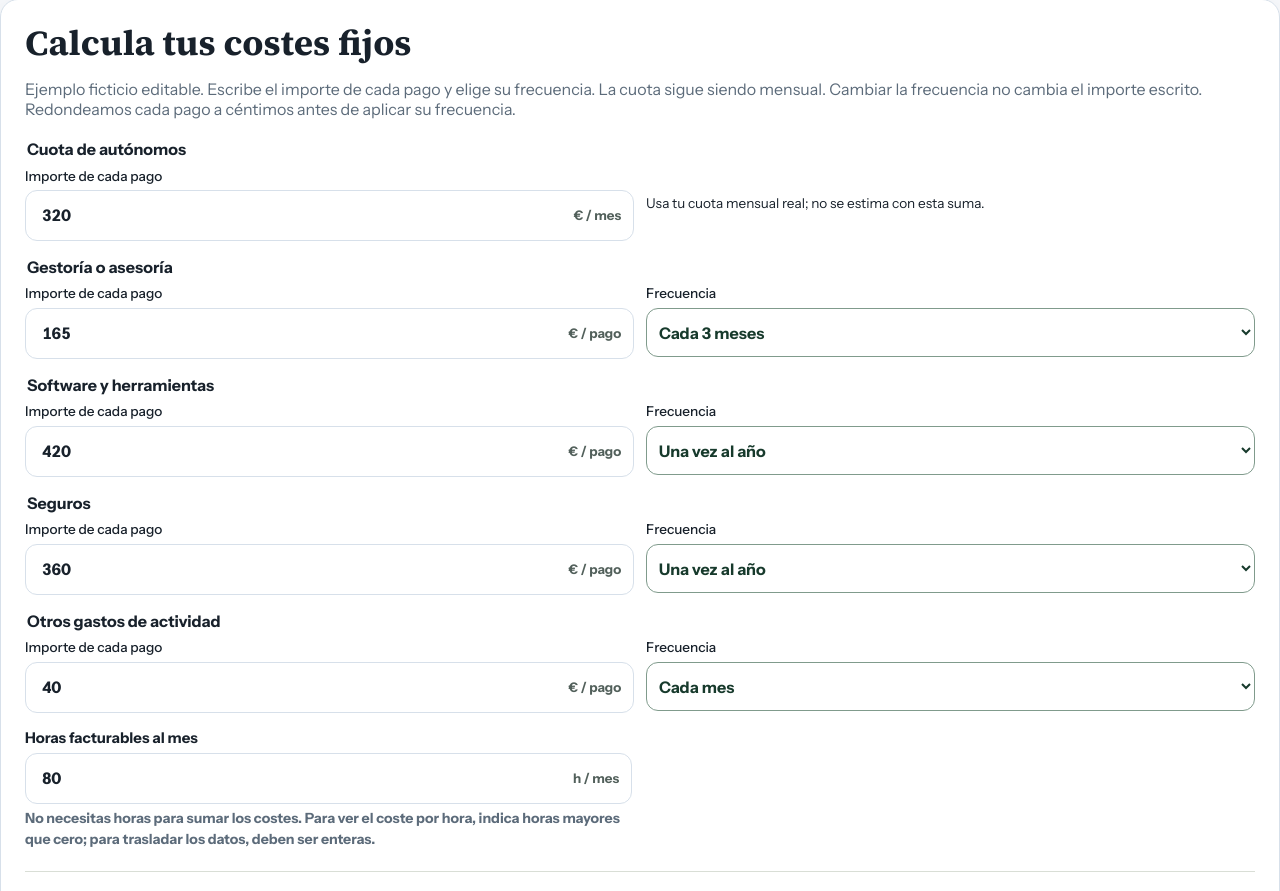
Test case: MonthlyCostCalculator › shows a cost-only breakdown and updates it when an expense changes
Step 1. Select "Cada mes" in the dropdown named "frecuencia de software" → (950,451), box left=646, top=426, right=1255, bottom=475
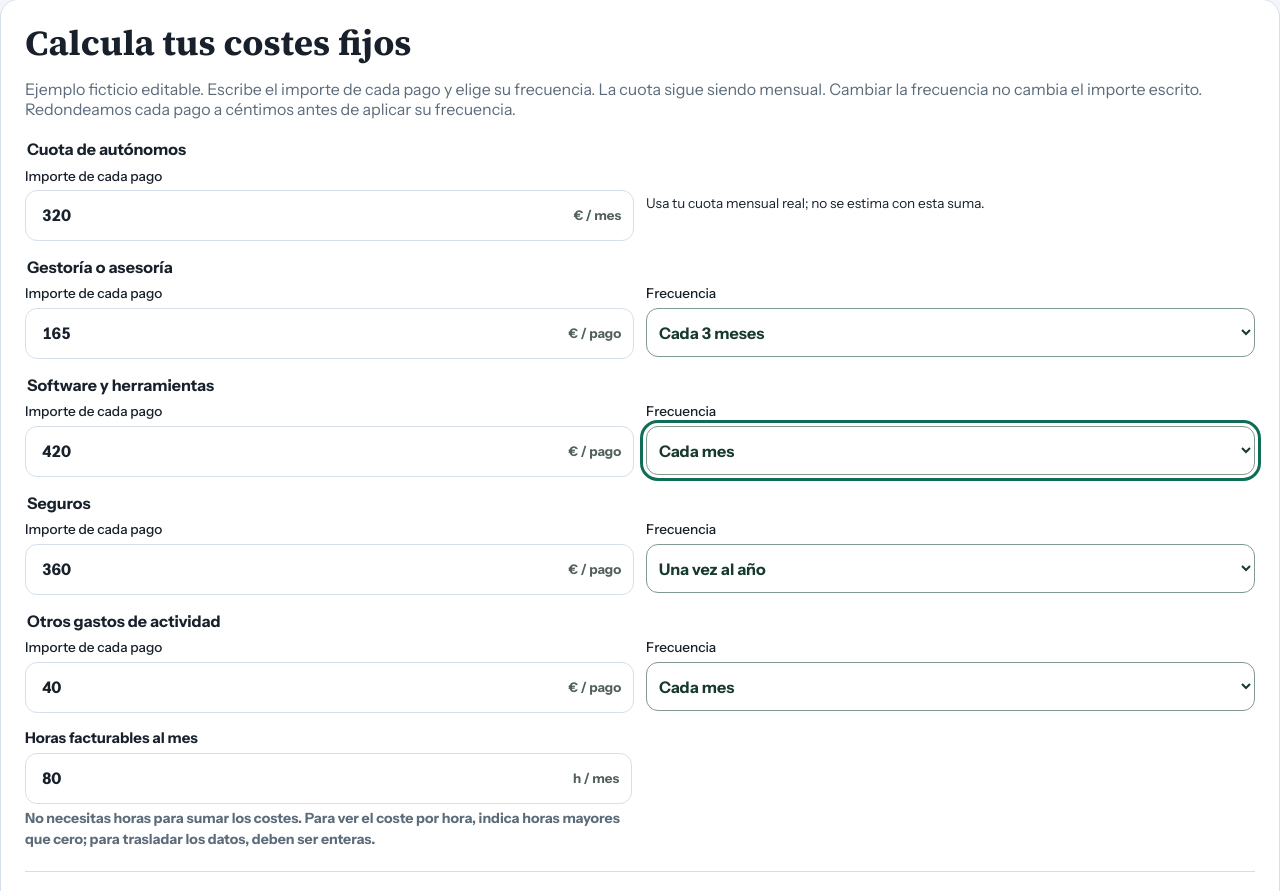
Step 2. Replace the text in the field named "software y herramientas" with "65" → (330,451), box left=25, top=426, right=634, bottom=477
(page scrolled)
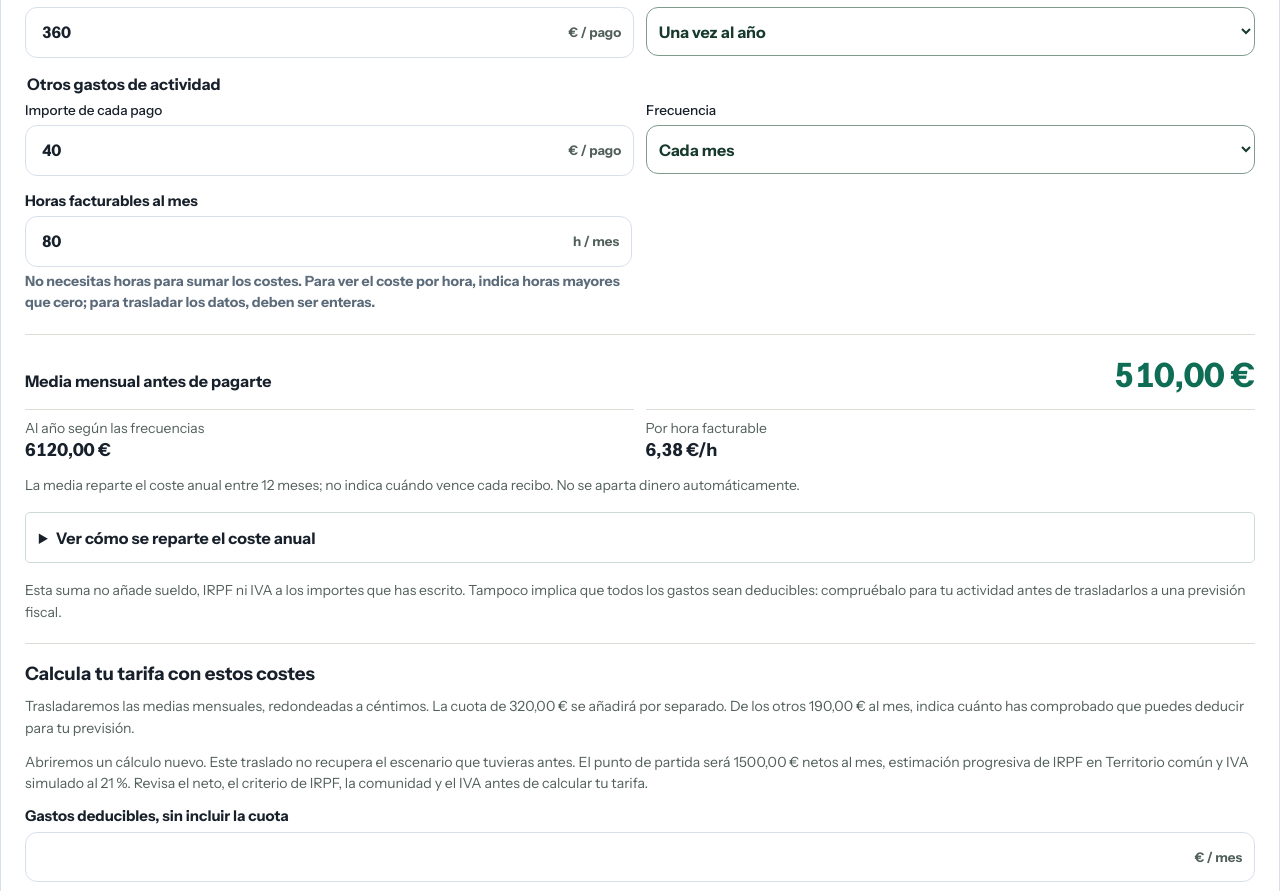
Expected: the text "510,00 €" is shown, left=1114, top=354, right=1255, bottom=395
Expected: the text "6,38 €/h" is shown, left=646, top=439, right=717, bottom=460
